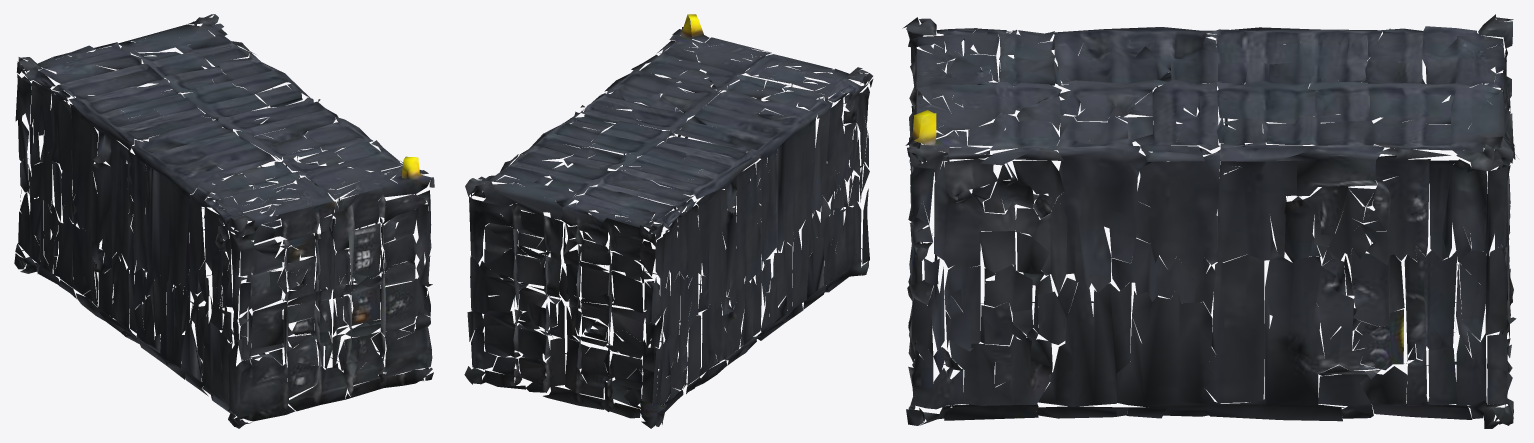
The model's file is container.glb.
3 renders of one model, left to right at view 1: azimuth 30°, elevation 25°; view 2: azimuth 150°, elevation 25°; view 3: azimuth 270°, elevation 25°, orthographic. The views are drawn at different scales.
Parts seen in each view (by area): view 1: tripo_node_67ee9e4d-c43f-46e9-9883-2c54264638a6; view 2: tripo_node_67ee9e4d-c43f-46e9-9883-2c54264638a6; view 3: tripo_node_67ee9e4d-c43f-46e9-9883-2c54264638a6.
Part boxes in pixels (x1,y1,x2,y2): tripo_node_67ee9e4d-c43f-46e9-9883-2c54264638a6: (14,14,434,428); tripo_node_67ee9e4d-c43f-46e9-9883-2c54264638a6: (464,14,873,428); tripo_node_67ee9e4d-c43f-46e9-9883-2c54264638a6: (902,14,1518,428).
Size of the model in its own units: 5.14 by 5.51 by 10.
Materials: 1 (1 with a texture image).
